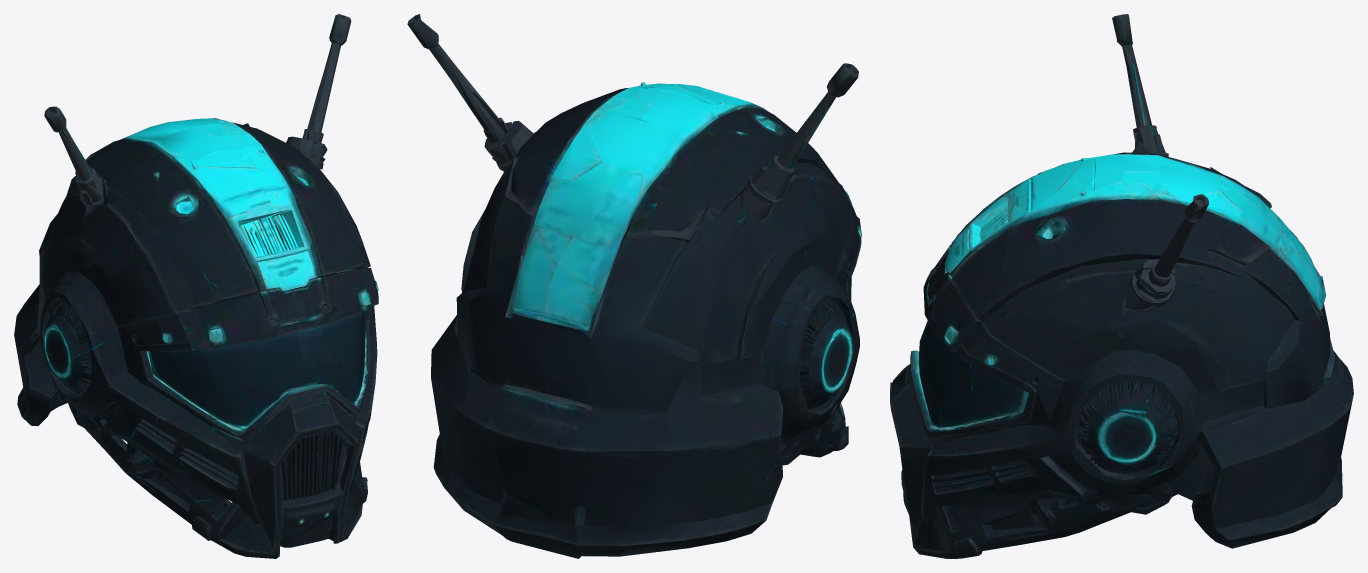
The model's file is mx_gr_helm_visor.glb.
3 views of the same model, side by side, from view 1: azimuth 30°, elevation 25°; view 2: azimuth 150°, elevation 25°; view 3: azimuth 270°, elevation 25° (orthographic). The views are drawn at different scales.
Size of the model in its own units: 1.65 by 1.9 by 1.82.
1 material, 1 textured.
